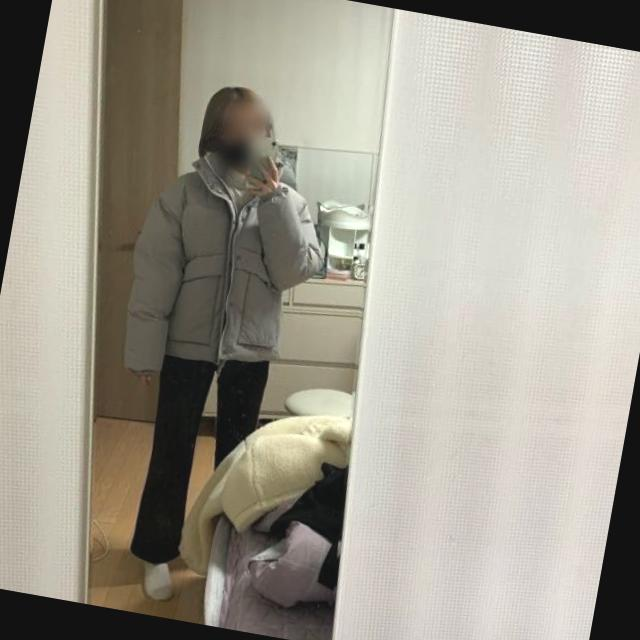padding: (112, 142, 338, 406)
trainingpants: (128, 344, 271, 575)
